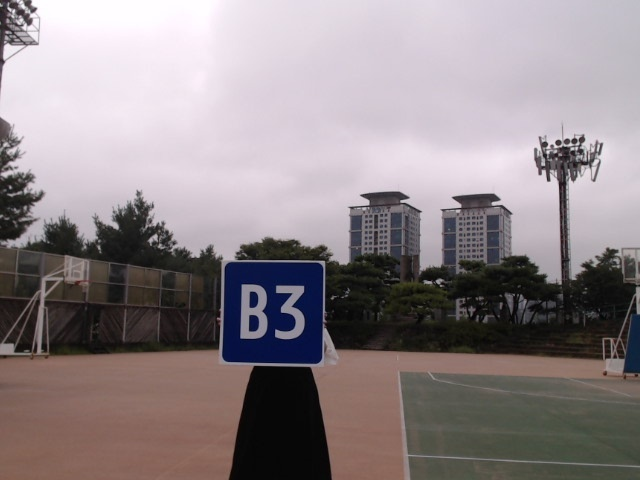delivery_b3: (221, 260, 324, 366)
